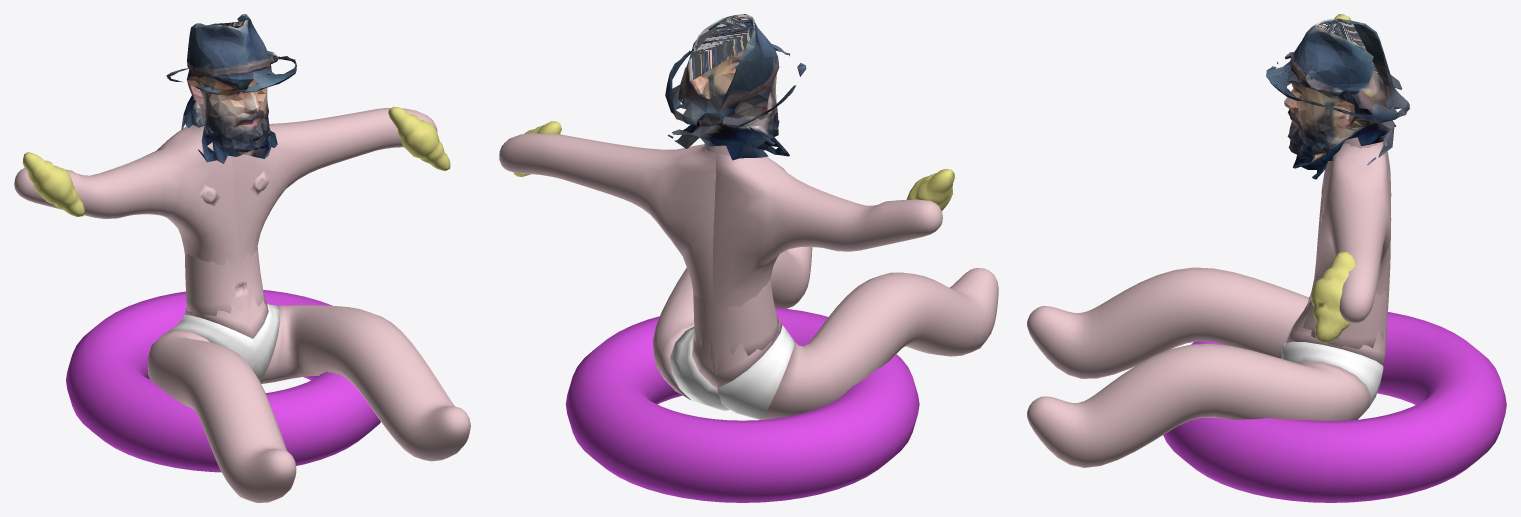
File: float2.glb
3 renders of one model, left to right at view 1: azimuth 30°, elevation 25°; view 2: azimuth 150°, elevation 25°; view 3: azimuth 270°, elevation 25°, orthographic. The views are drawn at different scales.
Parts seen in each view (by area): view 1: raph, ring; view 2: raph, ring; view 3: raph, ring.
Part boxes in pixels (x1=…): raph: x1=14, y1=14, x2=470, y2=502; ring: x1=66, y1=290, x2=380, y2=472; raph: x1=499, y1=14, x2=998, y2=419; ring: x1=565, y1=307, x2=919, y2=502; raph: x1=1027, y1=14, x2=1409, y2=467; ring: x1=1163, y1=312, x2=1506, y2=502.
Bounding box in the file's own units: 3.11 × 2.81 × 2.92.
5 materials, 1 textured.
